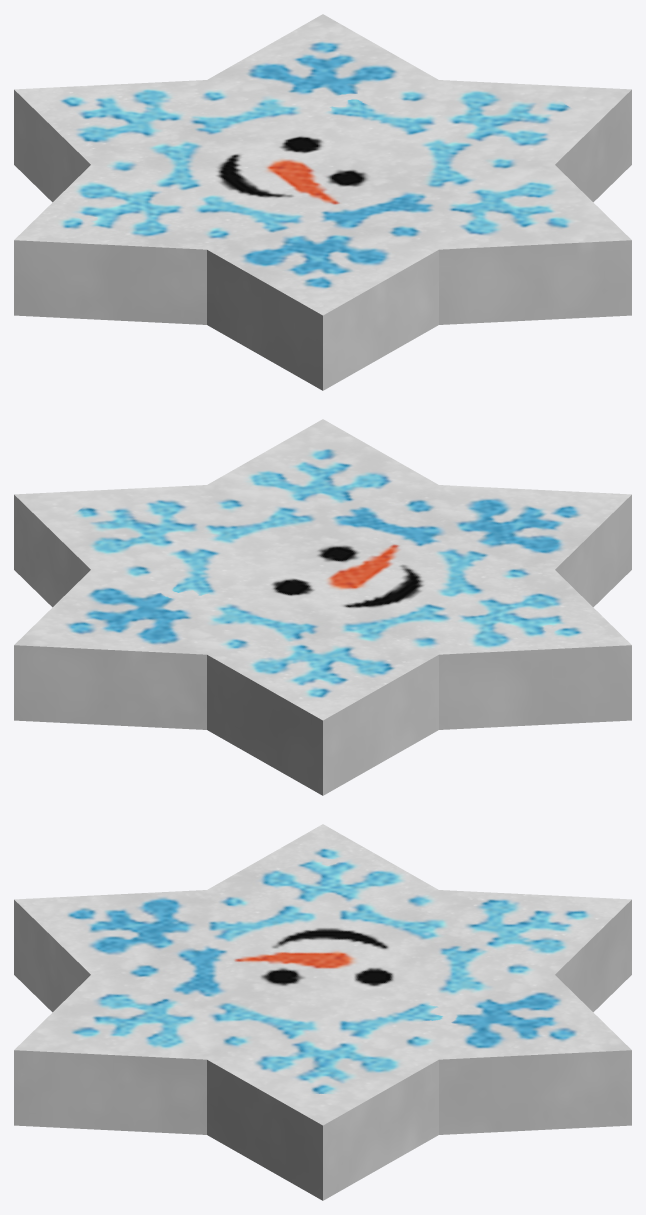
Rendered from Platform_swing.FBX.
3 renders of one model, top to bottom at view 1: azimuth 30°, elevation 25°; view 2: azimuth 150°, elevation 25°; view 3: azimuth 270°, elevation 25°, orthographic.
Parts seen in each view (by area): view 1: Star001; view 2: Star001; view 3: Star001.
Boxes of the visible parts, x1=… form: Star001: x1=14, y1=14, x2=631, y2=390; Star001: x1=14, y1=419, x2=631, y2=795; Star001: x1=14, y1=824, x2=631, y2=1200.
Size of the model in its own units: 172 by 20 by 149.
1 material, 1 textured.
